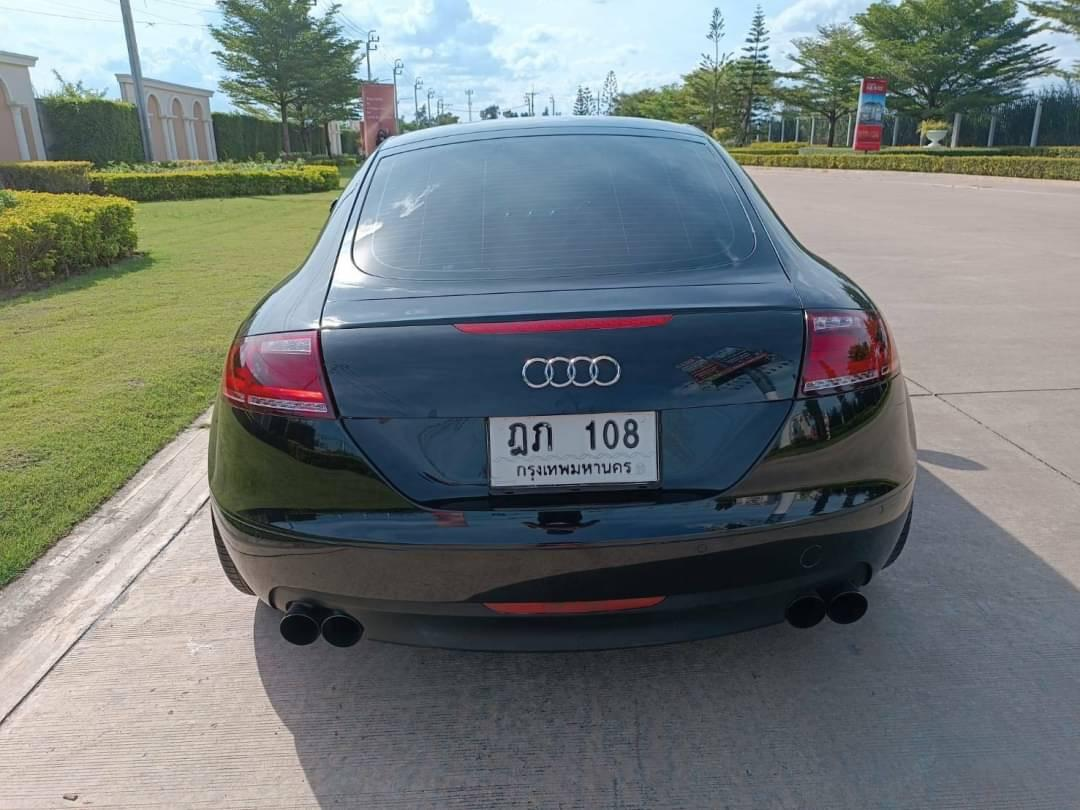license-plate: (484, 409, 663, 490)
